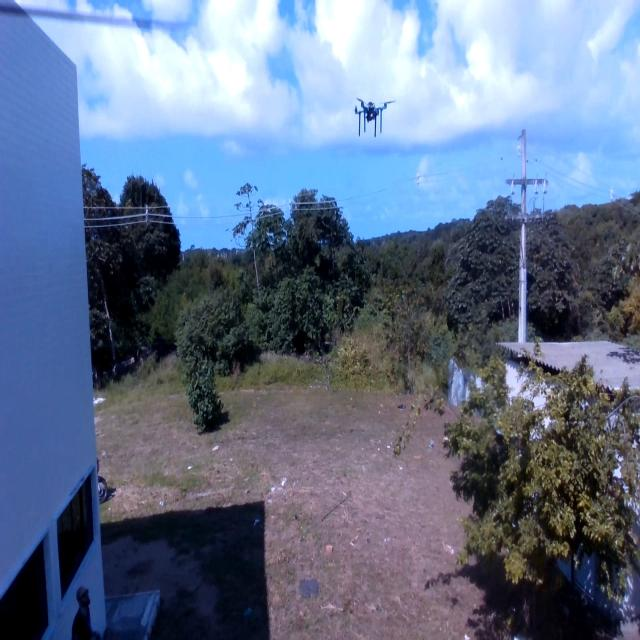-uav-: (346, 84, 405, 158)
